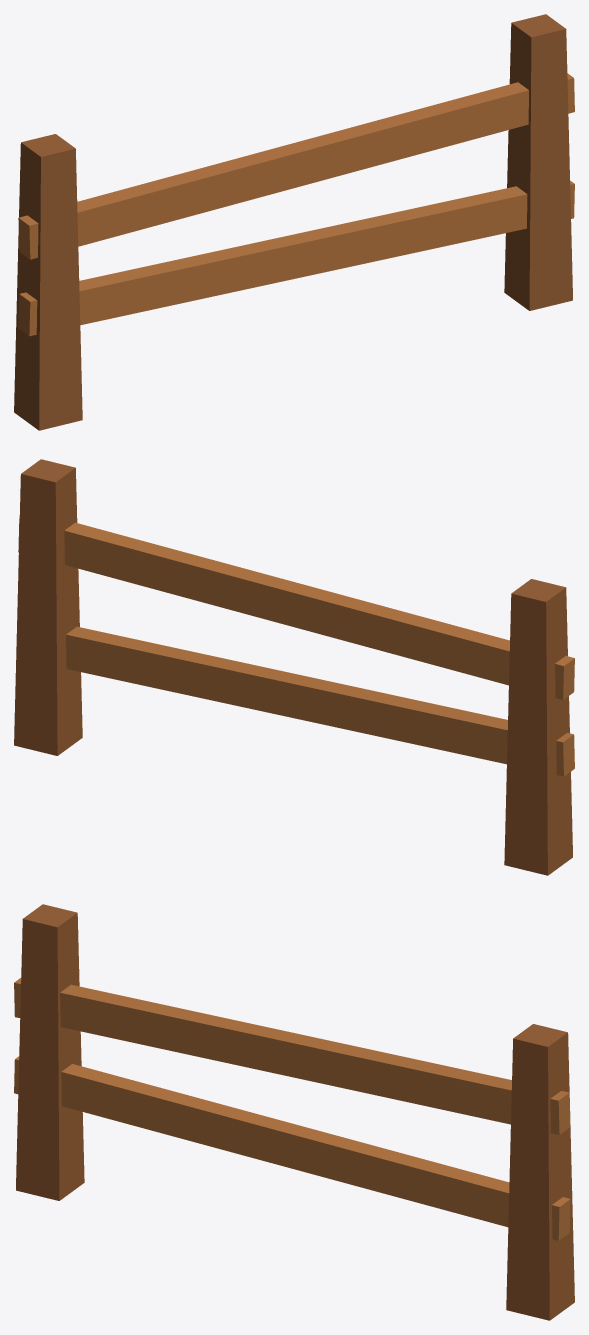
File: prop-fence.glb
The picture shows the model from 3 angles, top to bottom: view 1: azimuth 30°, elevation 25°; view 2: azimuth 150°, elevation 25°; view 3: azimuth 330°, elevation 25°; orthographic projection.
Visible parts, largest first — view 1: Fence; view 2: Fence; view 3: Fence.
Boxes of the visible parts, x1,y1,x2,y2 form: Fence: (14, 14, 574, 430); Fence: (14, 459, 574, 875); Fence: (14, 904, 574, 1320).
Bounding box in the file's own units: 2 × 0.95 × 0.16.
